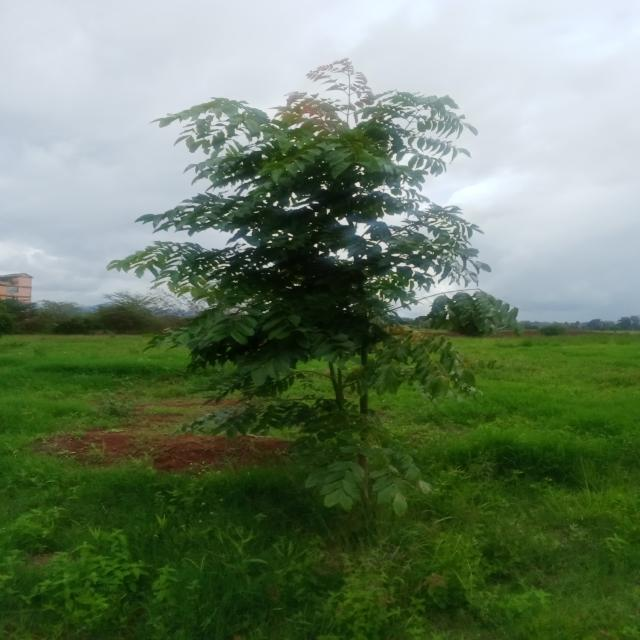Polyscias Kikuyensis: (130, 58, 515, 520)
